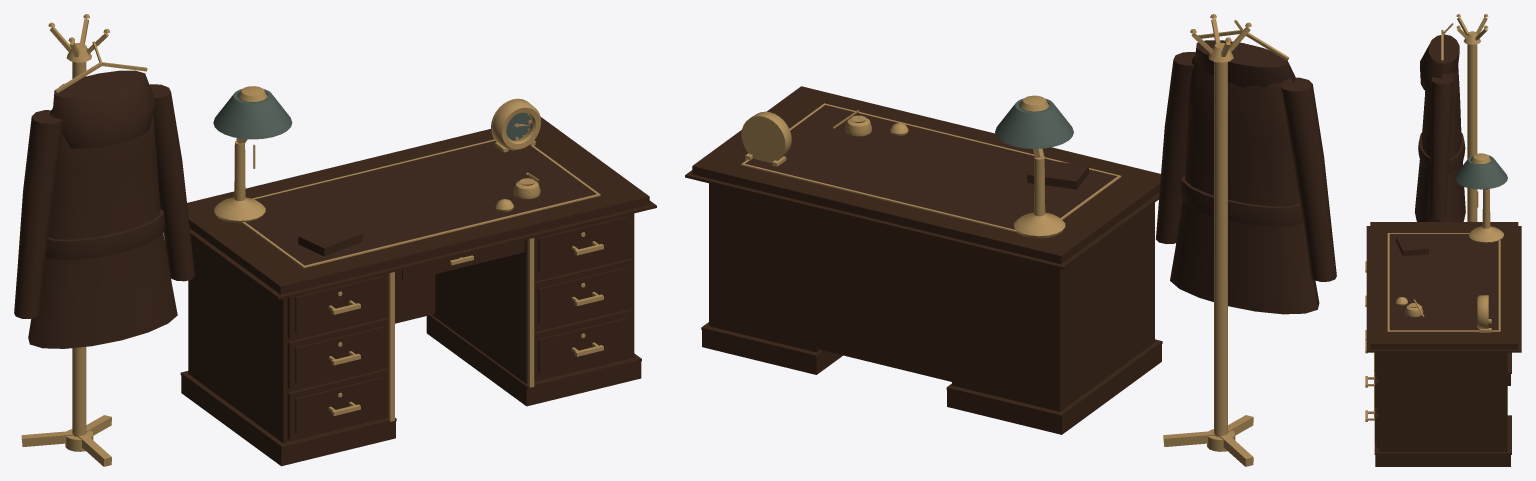
Rendered from booth_desk.glb.
The picture shows the model from 3 angles, left to right: view 1: azimuth 30°, elevation 25°; view 2: azimuth 150°, elevation 25°; view 3: azimuth 270°, elevation 25°; orthographic projection. The views are drawn at different scales.
Visible parts, largest first — view 1: booth_desk; view 2: booth_desk; view 3: booth_desk.
Part boxes in pixels (bbox=[...]): booth_desk: bbox=[14, 14, 656, 466]; booth_desk: bbox=[685, 14, 1336, 466]; booth_desk: bbox=[1365, 14, 1521, 466].
Bounding box in the file's own units: 2.61 × 1.78 × 0.888.
